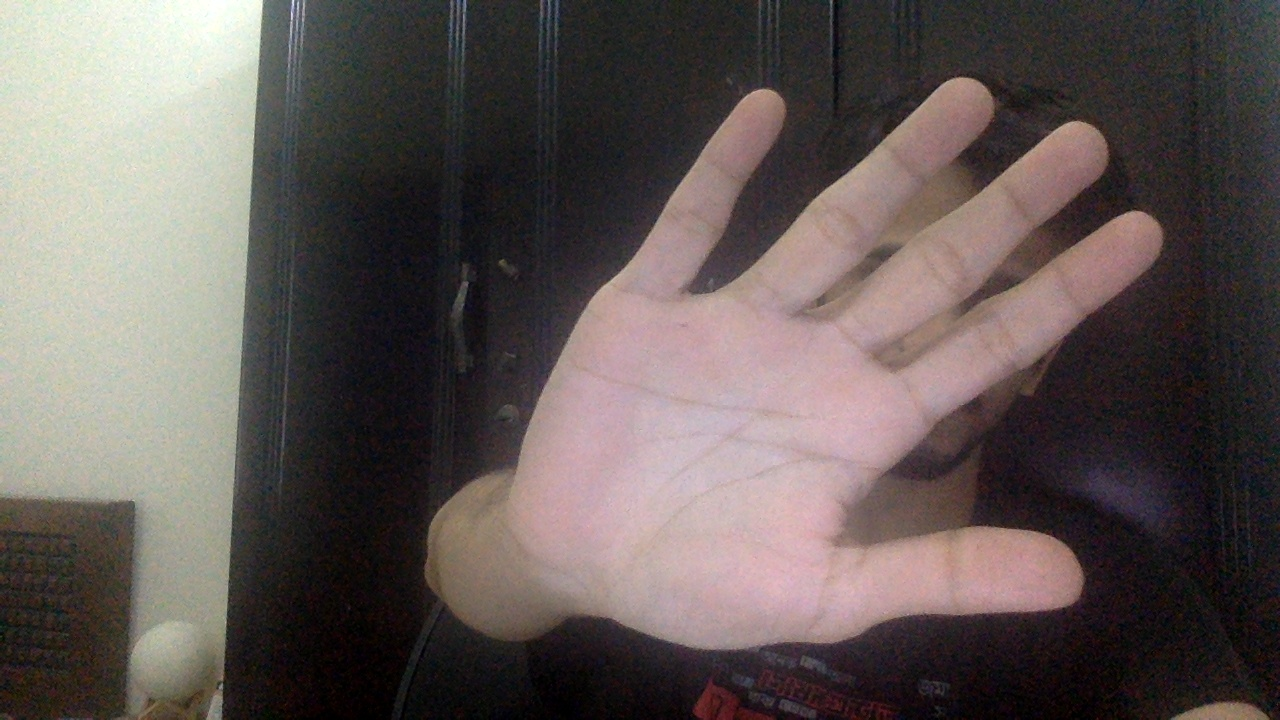stop: (506, 73, 1163, 650)
